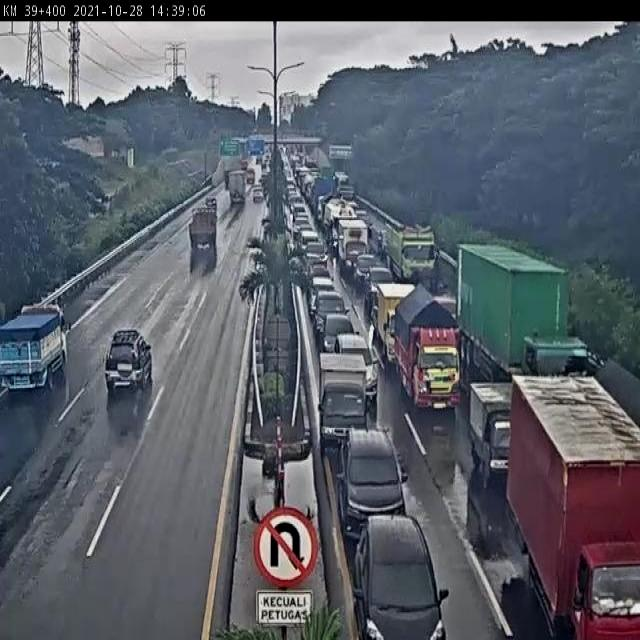Car: (350, 513, 448, 638), (334, 429, 409, 542), (332, 333, 377, 404), (100, 334, 152, 394), (320, 311, 357, 357), (363, 264, 395, 308), (310, 275, 338, 314), (303, 240, 327, 267)
Truck: (506, 373, 636, 640), (461, 248, 583, 366), (390, 282, 462, 413), (0, 294, 76, 391), (468, 382, 516, 488), (368, 282, 414, 367), (385, 222, 436, 285), (182, 199, 224, 258), (333, 214, 370, 276), (312, 173, 336, 214), (227, 169, 247, 206)
